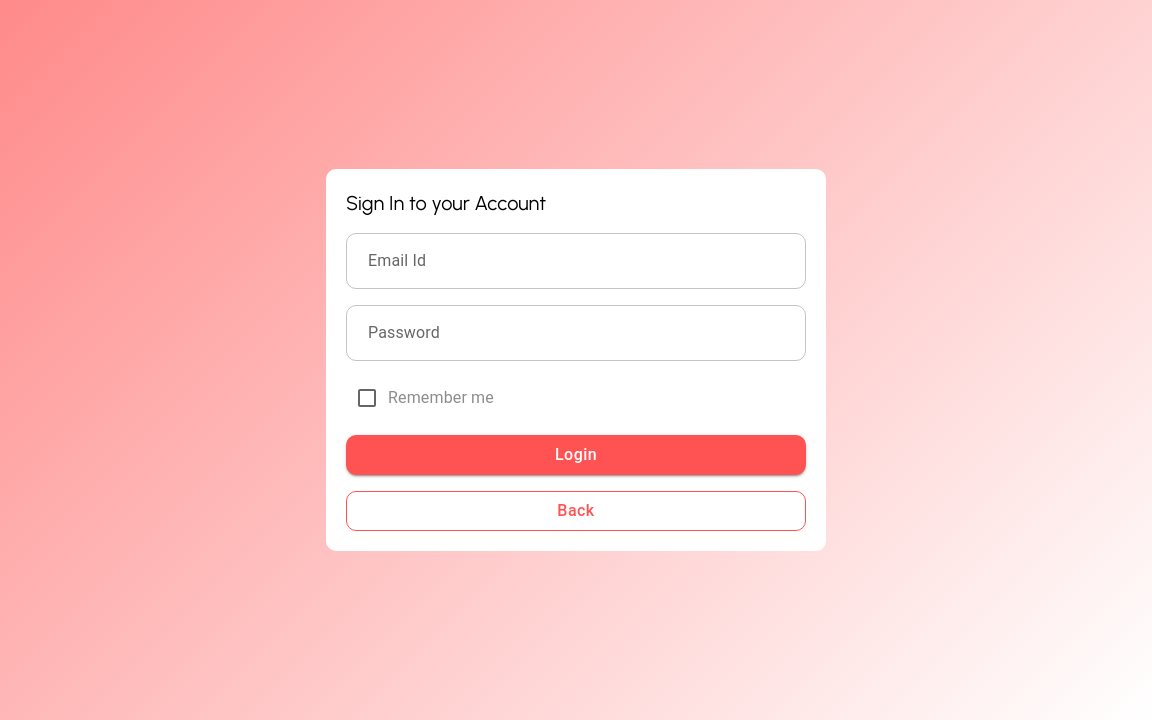
Test: LoginPage - Simple Tests with OTP › shows email validation error when empty
What coordinates should you click on to do the following:
click the button "Login"
I would click on:
 (576, 455)
Its box is [346,435,806,475].
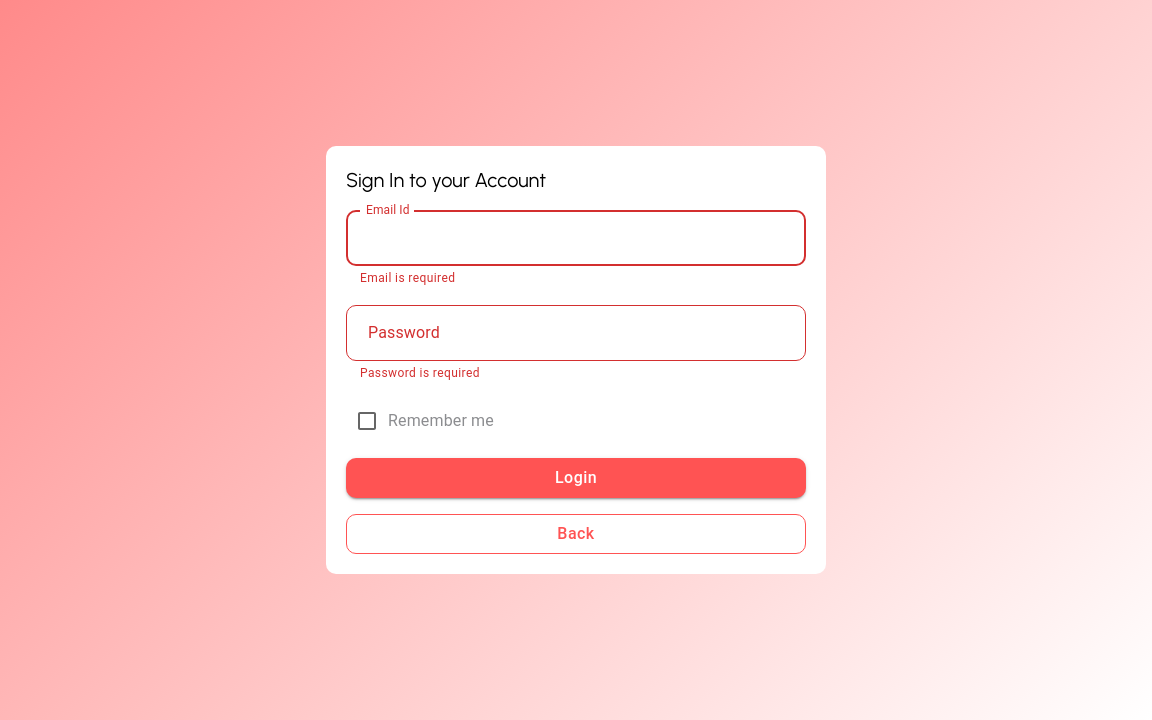
Now the text "Email is required" is shown, box [360,271,455,285]
